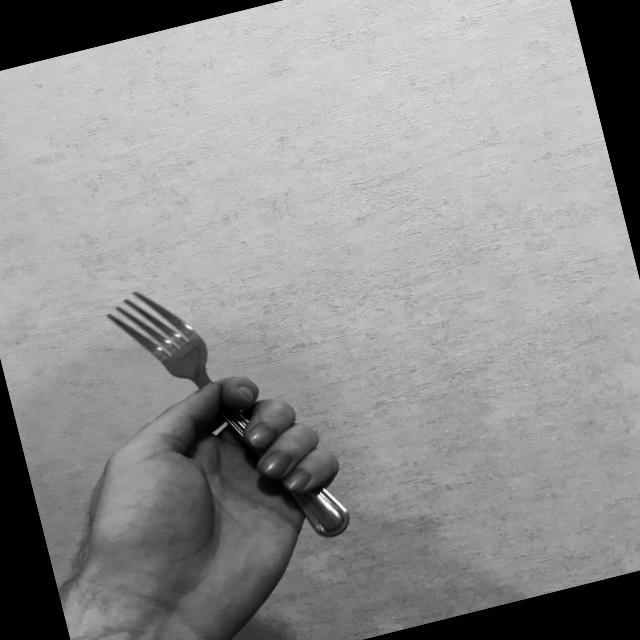fork: (98, 251, 356, 580)
